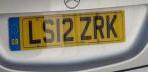2: (61, 17, 75, 42)
I: (55, 17, 61, 43)
K: (105, 14, 118, 38)
L: (27, 19, 42, 45)
R: (92, 15, 105, 39)
S: (42, 19, 54, 43)
Z: (79, 16, 93, 40)
